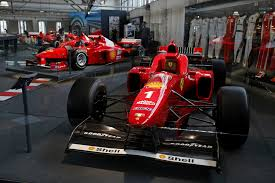f1_car: (61, 38, 256, 178), (24, 26, 151, 75)
